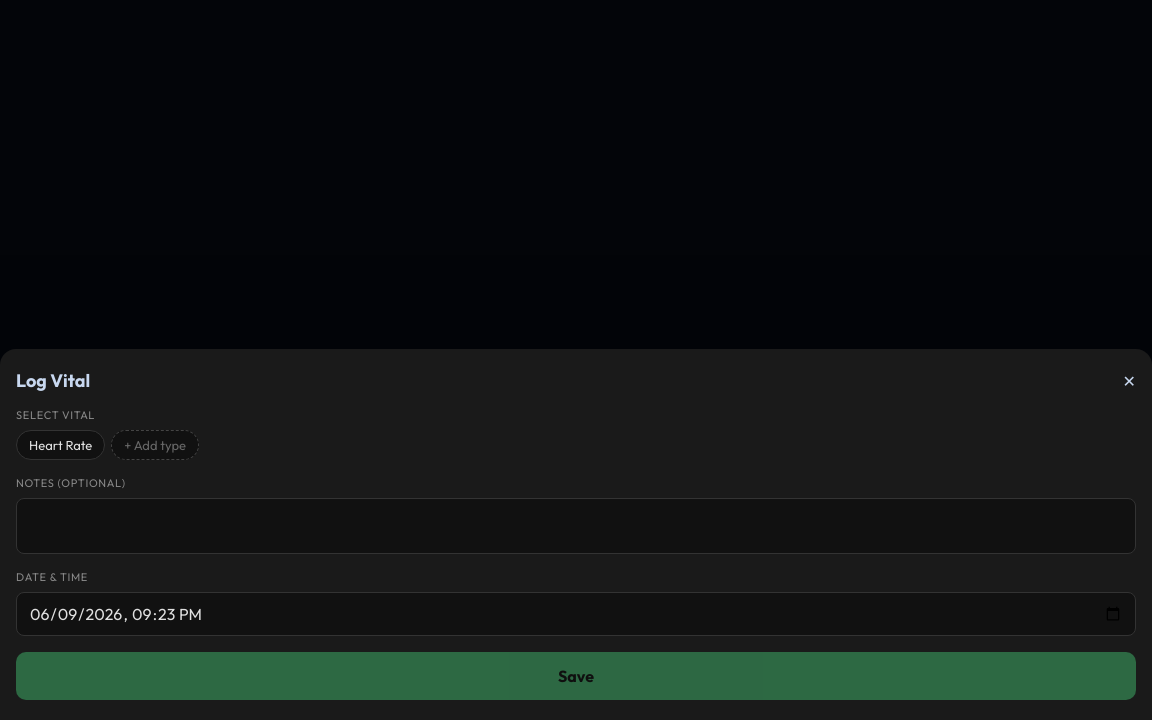
LogVitalSheet › after selecting a type, shows value input
The image size is (1152, 720).
Click the button "Heart Rate": (61, 445) [16,430,105,460]
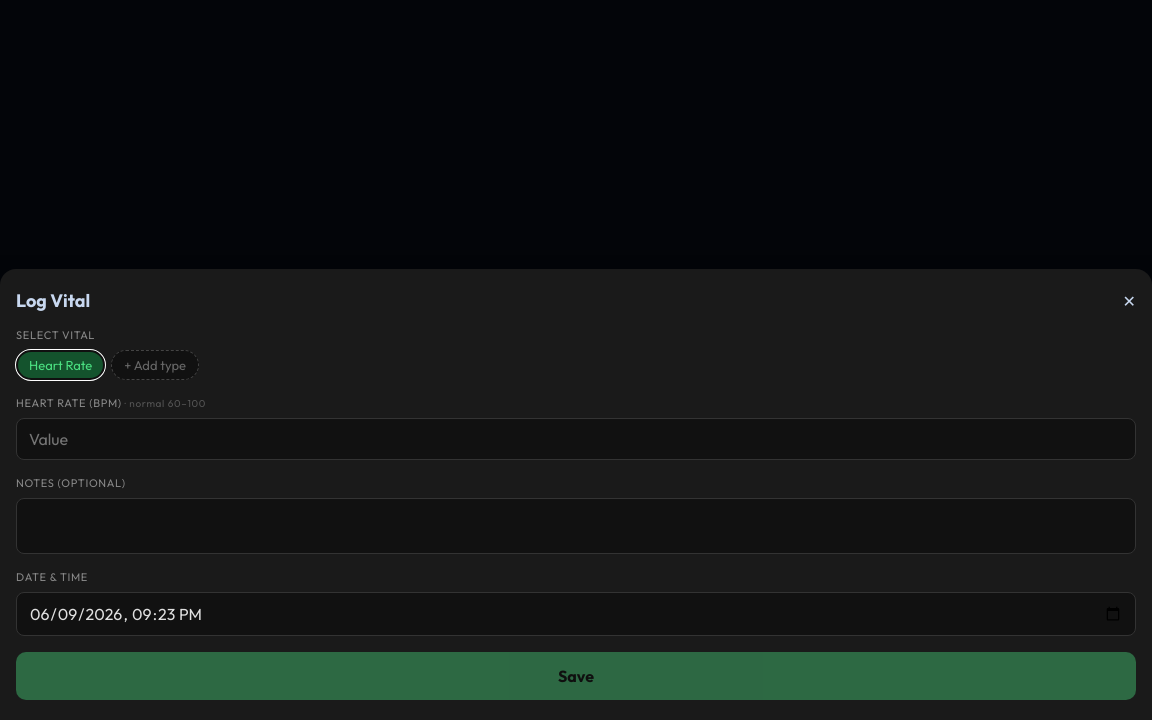
expect the number field with placeholder "Value" is shown: met, box [16,418,1136,460]
